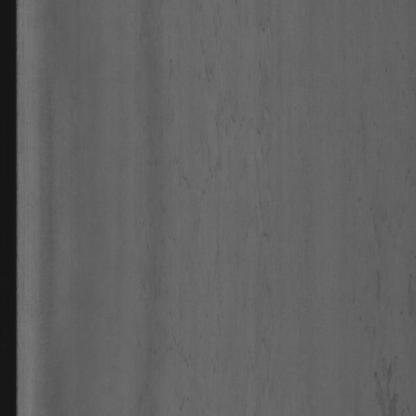silk_spot: (141, 38, 276, 408)
water_spot: (364, 342, 402, 416)
